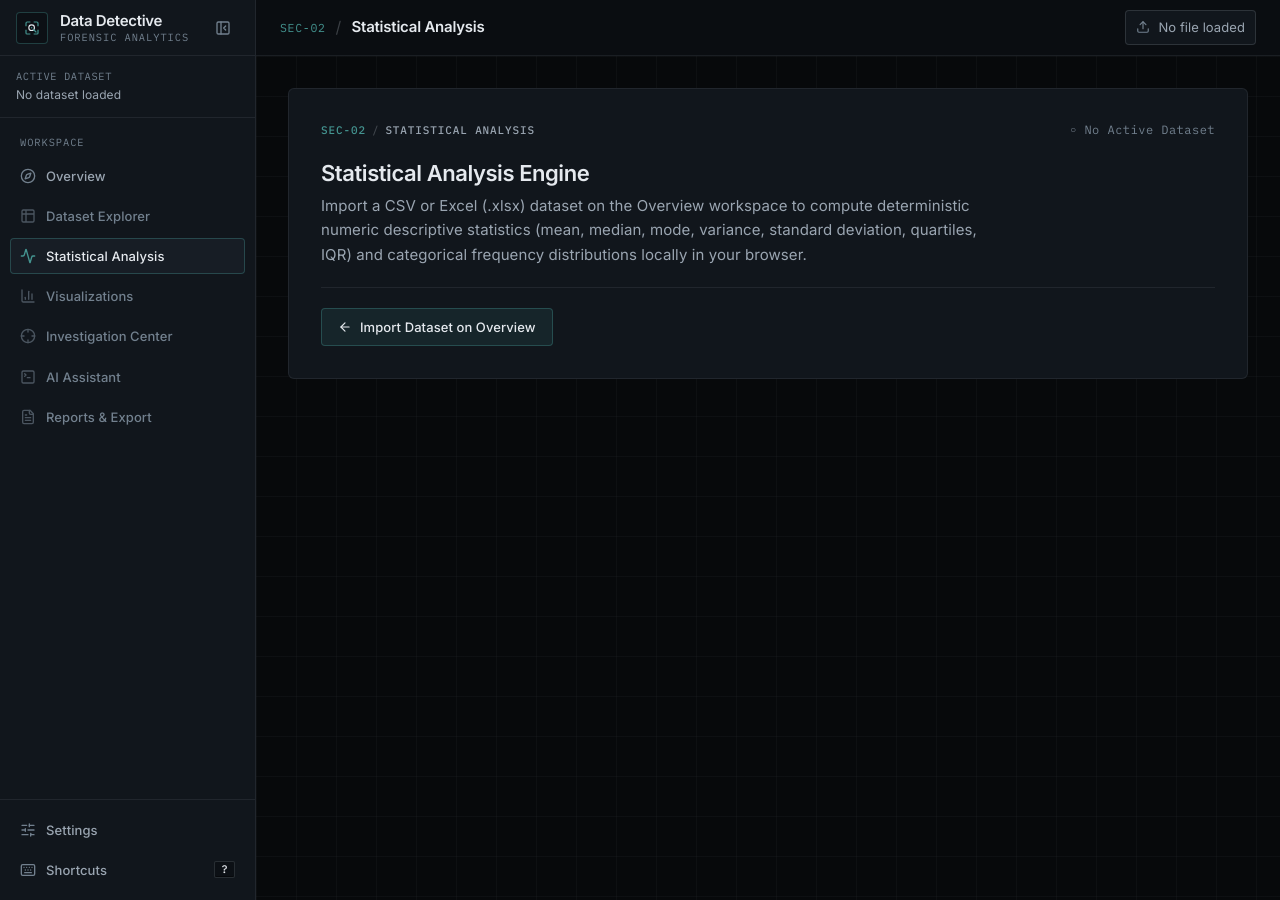
Global Keyboard Shortcut Manager › opens, filters, executes actions from, and dismisses the Keyboard Shortcuts Reference modal (?)
Type keys "?"
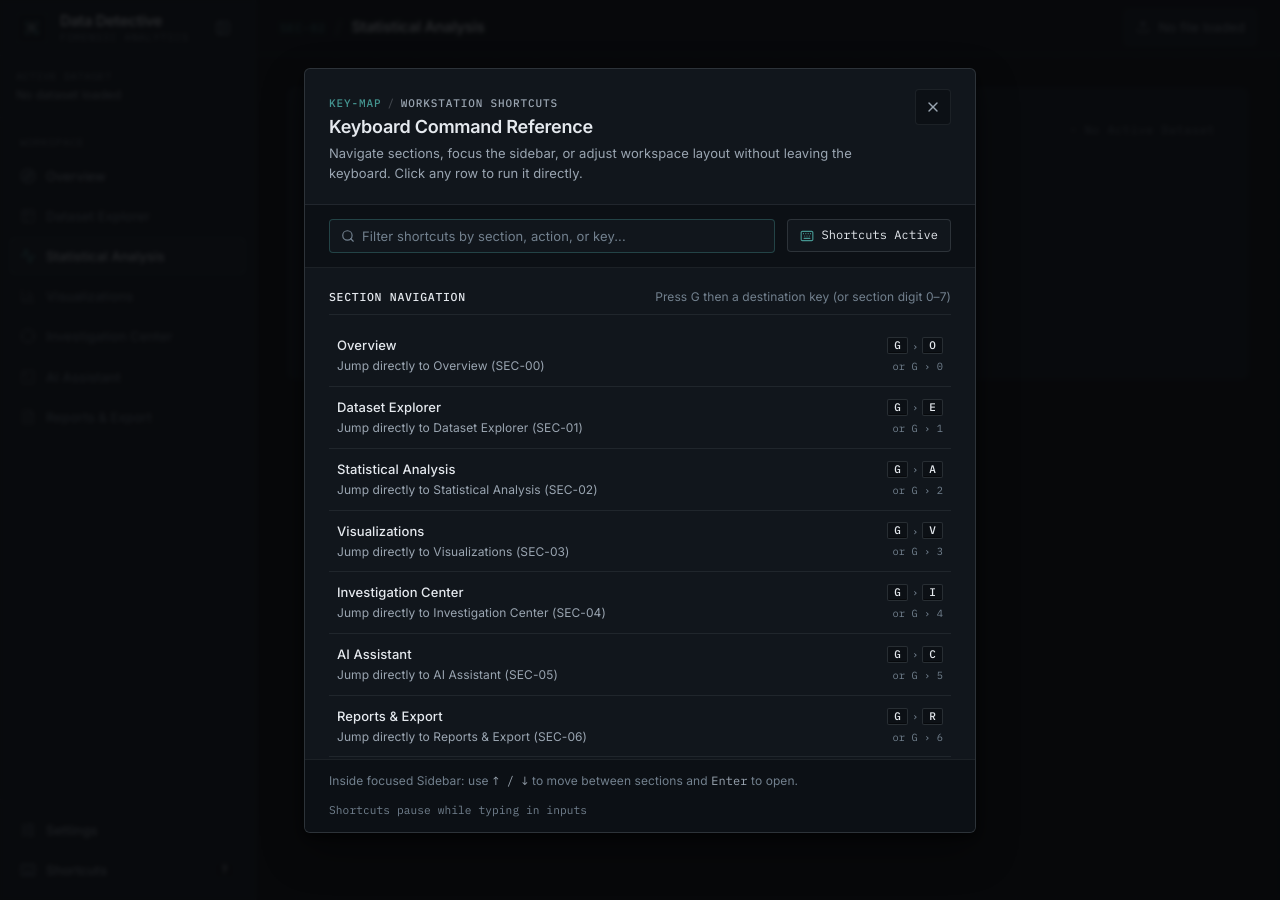
Expected: the dialog "Keyboard Command Reference" is shown, [304, 68, 976, 832]
Type "overview" into the field named "Filter keyboard shortcuts".
click(552, 236); type("overview")  # box [329, 219, 774, 253]
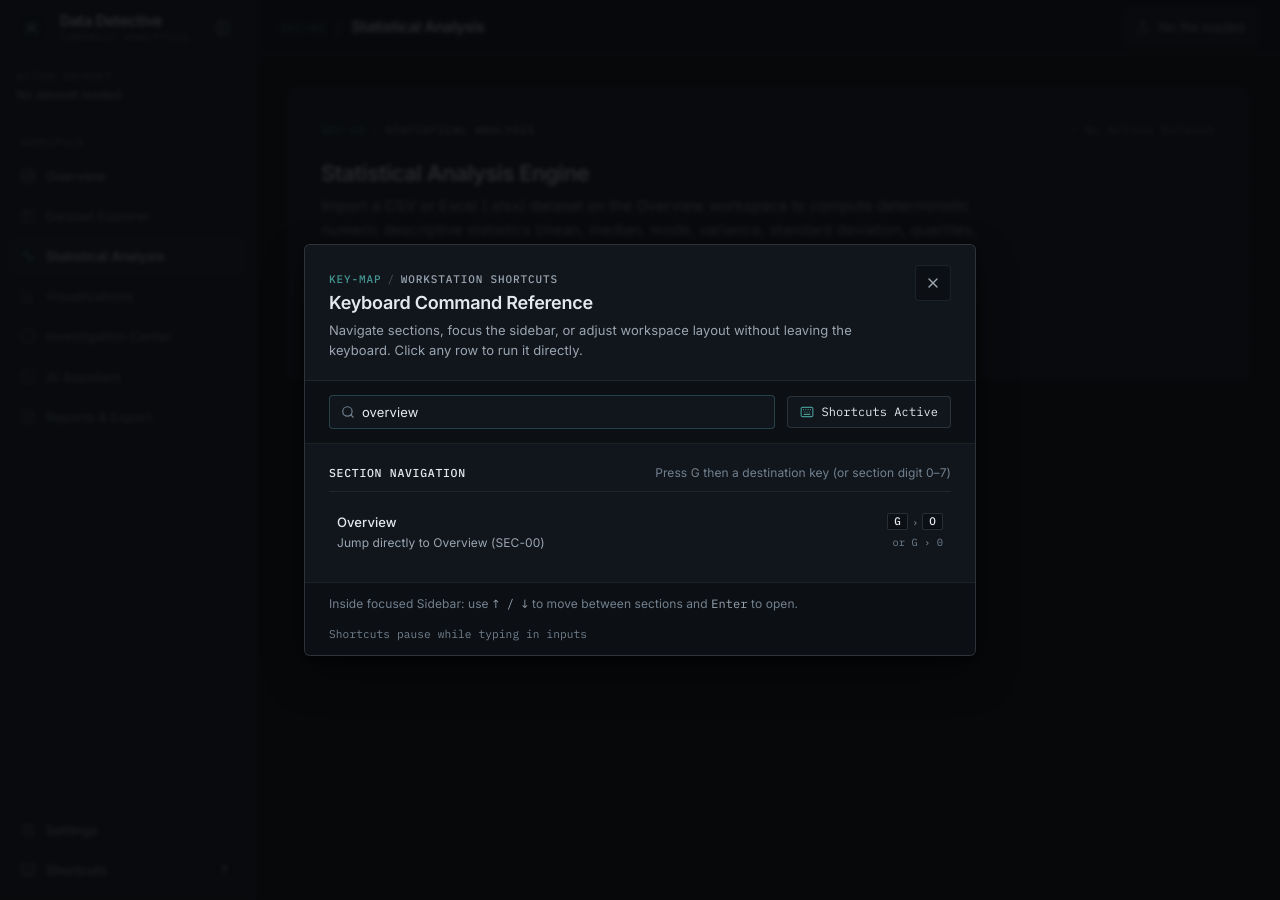
Expected: the button "Overview Jump directly to Overview (SEC-00) G › O or G › 0" is shown
Clicking the shortcut row runs the command and closes the modal
Click the button "Overview Jump directly to Overview (SEC-00) G › O or G › 0".
click(367, 522)  # box [329, 502, 951, 562]
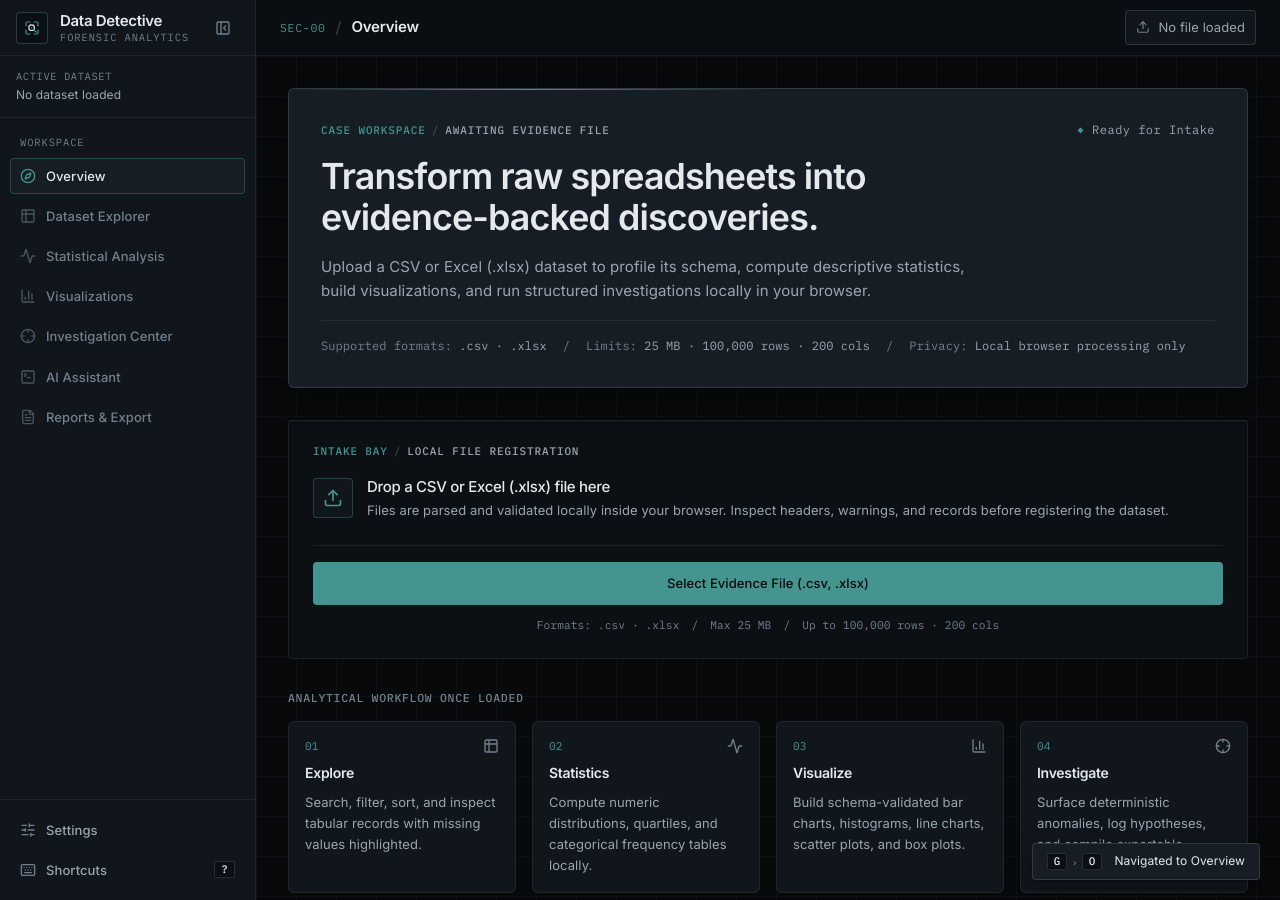
Expected: the heading "Keyboard Command Reference" is gone
Expected: the heading "Overview" is shown, [352, 18, 419, 36]
Re-open via Sidebar button and dismiss with Escape
Click the button with aria-label "Keyboard Shortcuts".
click(128, 870)  # box [10, 852, 245, 888]
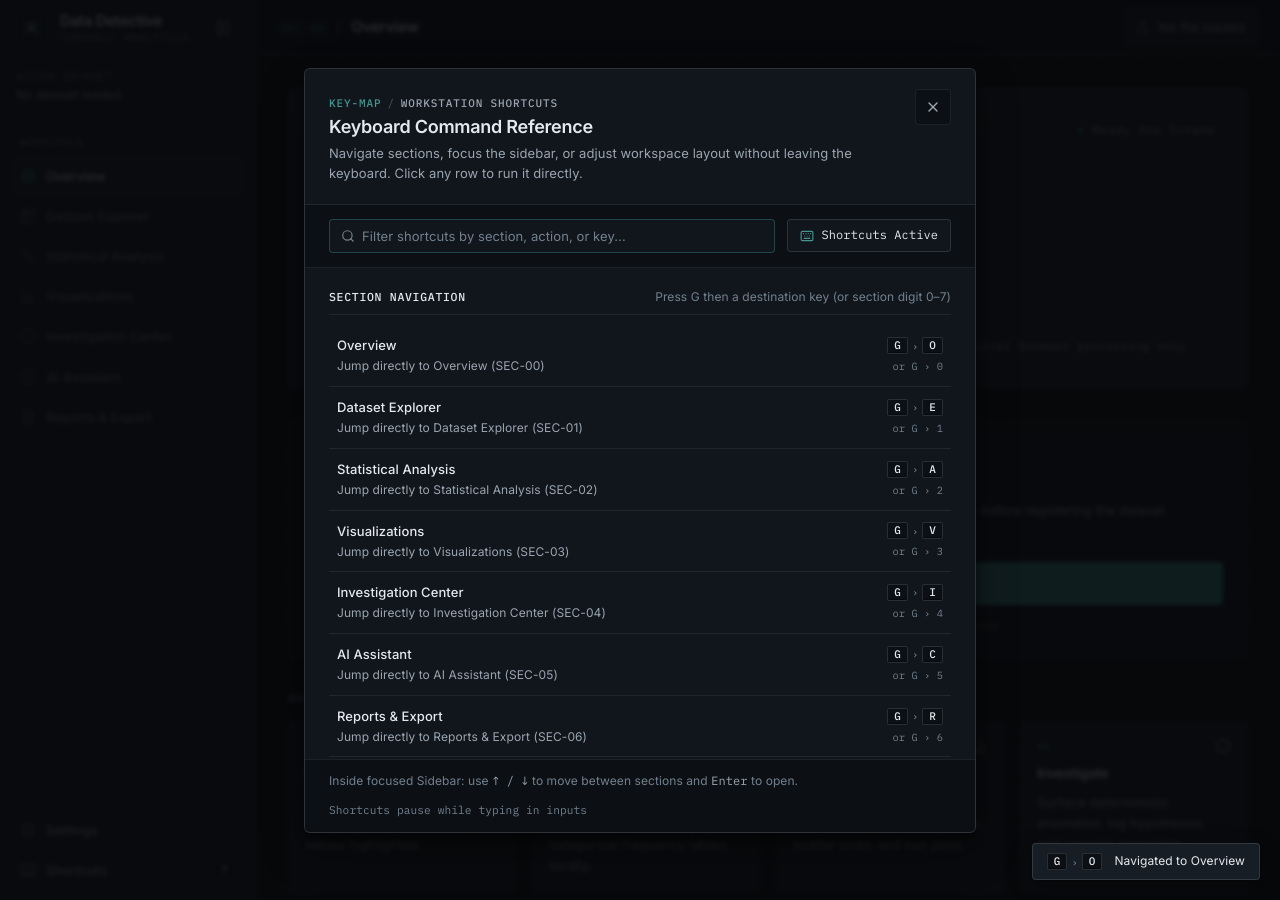
Expected: the dialog "Keyboard Command Reference" is shown, [304, 68, 976, 832]
Press Escape
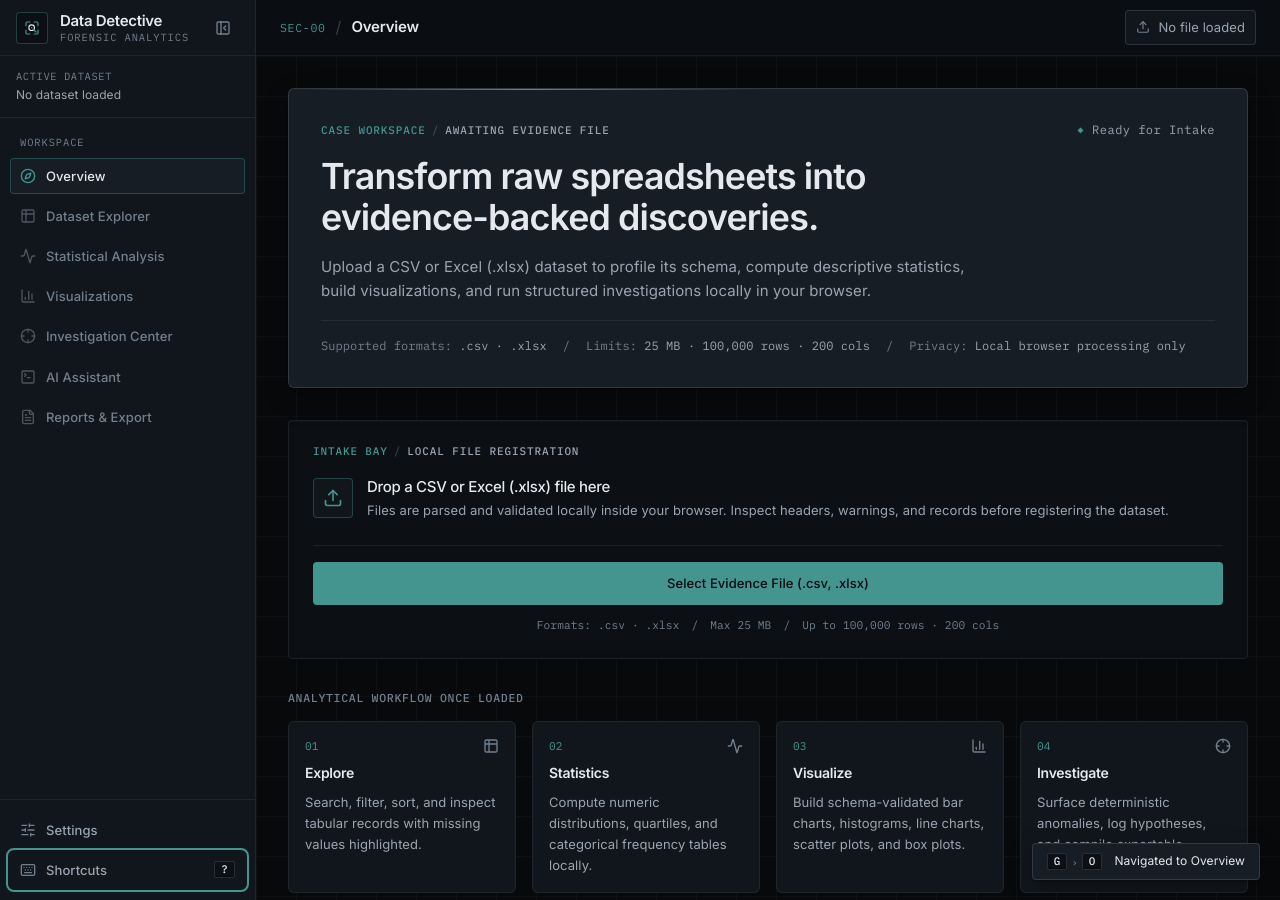
Expected: the heading "Keyboard Command Reference" is gone
